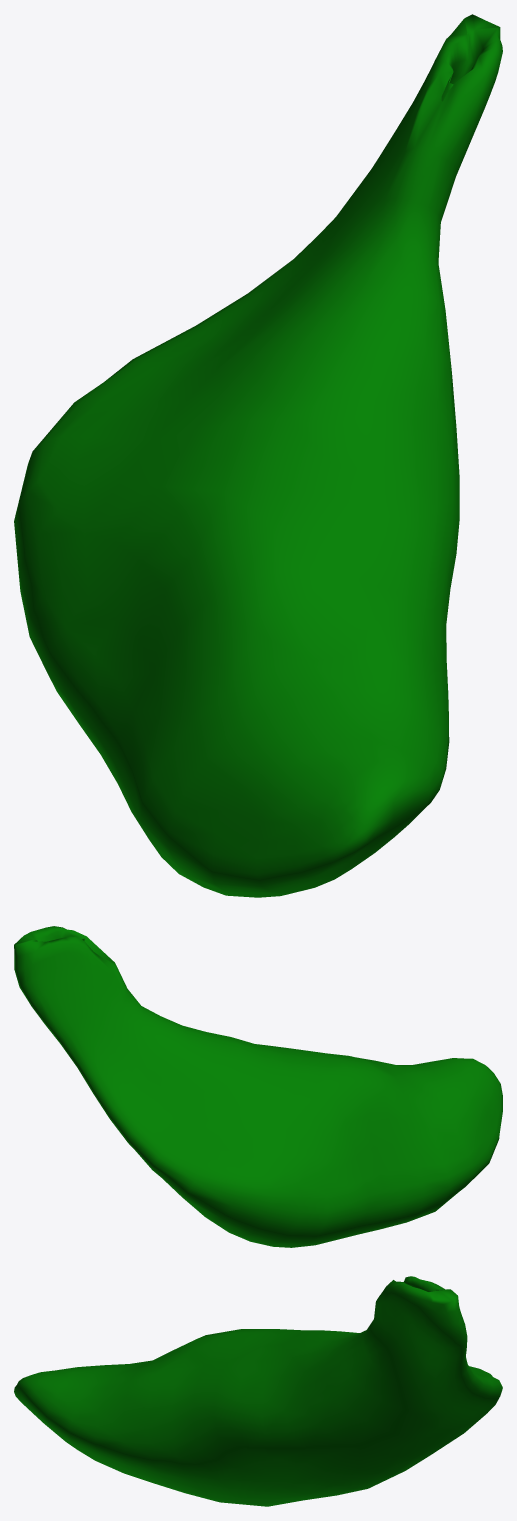
Rendered from VH_F_Gallbladder.fbx.
The picture shows the model from 3 angles, top to bottom: view 1: azimuth 30°, elevation 25°; view 2: azimuth 150°, elevation 25°; view 3: azimuth 270°, elevation 25°; orthographic projection. The views are drawn at different scales.
Visible parts, largest first — view 1: VH_F_gallbladder; view 2: VH_F_gallbladder; view 3: VH_F_gallbladder.
Boxes of the visible parts, bbox=[...] form: VH_F_gallbladder: bbox=[14, 14, 502, 897]; VH_F_gallbladder: bbox=[14, 926, 502, 1247]; VH_F_gallbladder: bbox=[14, 1276, 502, 1506].
Bounding box in the file's own units: 4.09 × 3.79 × 5.2.
